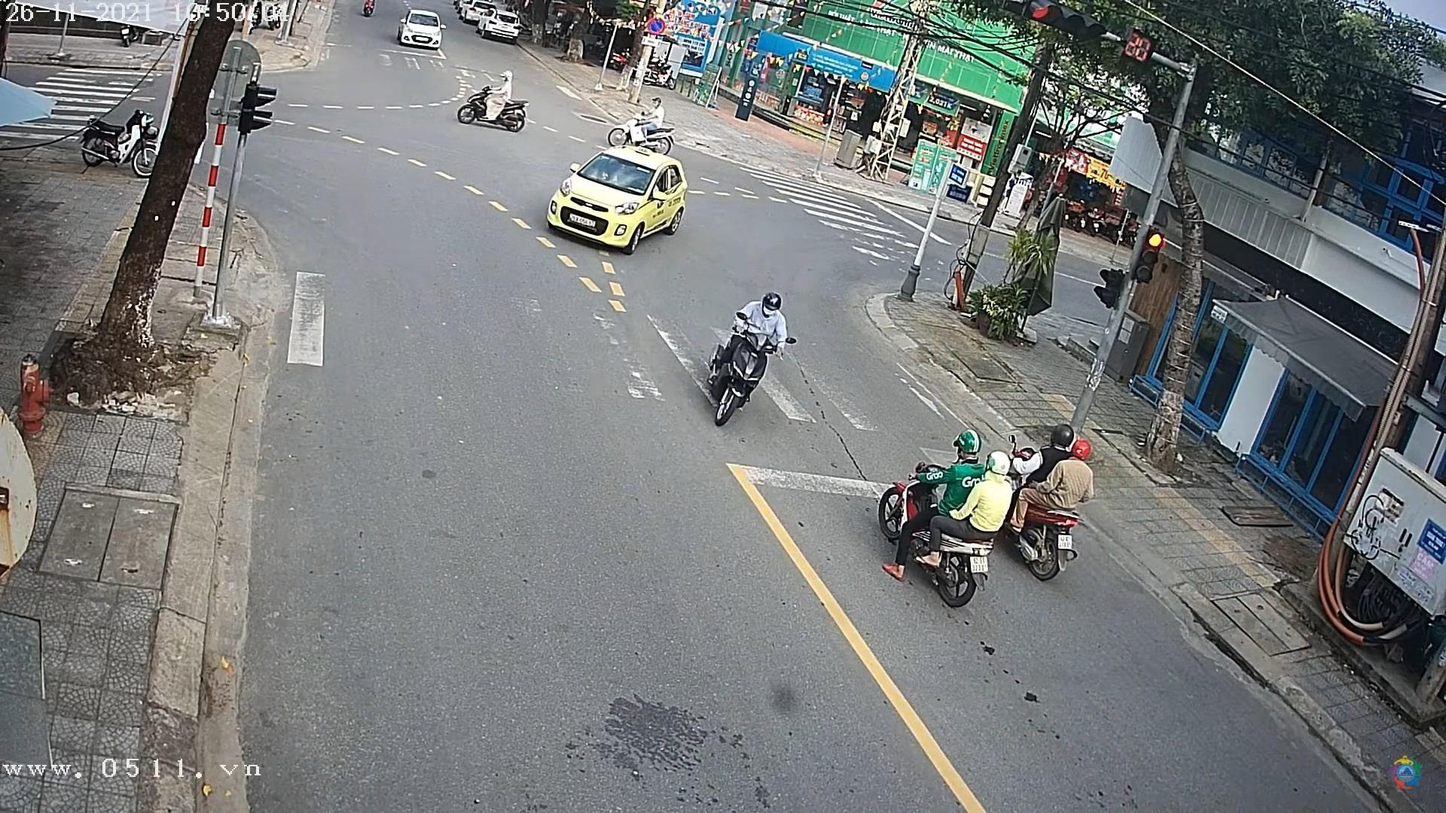car: (547, 147, 687, 253), (401, 10, 447, 48)
motorbike: (706, 302, 795, 428)
